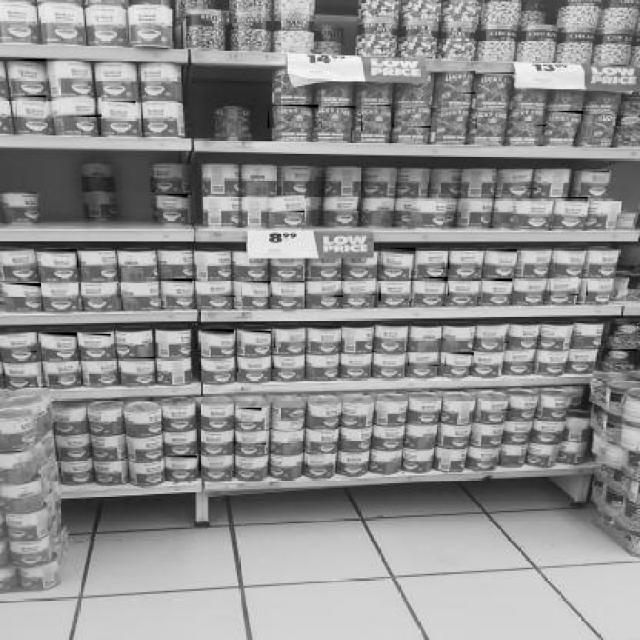Beans: (48, 96, 104, 119), (268, 105, 320, 129), (48, 63, 92, 86), (435, 71, 477, 95), (97, 60, 135, 86), (136, 62, 176, 85), (393, 106, 433, 129), (360, 105, 392, 133), (11, 59, 48, 83), (479, 72, 516, 96), (39, 249, 79, 271), (196, 329, 236, 351), (319, 106, 357, 129), (37, 333, 79, 353), (436, 108, 474, 130), (80, 283, 129, 300), (475, 108, 511, 131), (381, 248, 417, 271), (553, 197, 590, 219), (0, 333, 38, 354), (101, 100, 137, 122), (503, 169, 539, 191), (158, 278, 194, 300), (374, 325, 410, 347), (194, 280, 237, 298), (15, 95, 47, 119), (514, 199, 552, 219), (379, 280, 413, 302), (477, 323, 511, 345), (308, 326, 342, 348), (274, 328, 308, 350), (120, 357, 157, 377), (549, 110, 585, 130), (77, 251, 117, 269), (321, 196, 363, 213), (2, 283, 44, 300), (341, 278, 379, 296), (2, 360, 40, 378), (522, 248, 553, 270), (556, 249, 587, 271), (485, 249, 519, 269), (40, 363, 80, 380), (40, 283, 82, 299), (511, 110, 548, 128), (271, 280, 307, 298), (448, 251, 480, 271), (415, 251, 447, 271), (199, 456, 236, 473), (603, 349, 640, 366), (549, 277, 580, 297), (272, 195, 306, 213), (2, 249, 36, 267), (448, 278, 482, 296), (586, 278, 620, 296), (311, 280, 345, 298), (240, 280, 274, 298), (162, 431, 200, 447), (239, 331, 273, 348), (272, 354, 306, 371), (154, 194, 190, 210), (589, 249, 621, 267), (417, 277, 449, 295), (234, 431, 268, 447), (165, 455, 199, 471), (481, 279, 513, 296), (79, 334, 113, 350), (340, 354, 374, 370), (374, 354, 406, 371), (237, 357, 269, 374), (615, 324, 639, 346), (578, 171, 610, 187), (505, 349, 537, 365), (408, 353, 440, 369), (81, 360, 117, 374), (517, 280, 548, 296), (445, 352, 476, 368), (234, 408, 263, 424), (307, 454, 335, 470), (479, 401, 513, 413), (201, 360, 235, 372), (284, 168, 312, 182), (312, 356, 340, 370), (620, 115, 640, 133)
